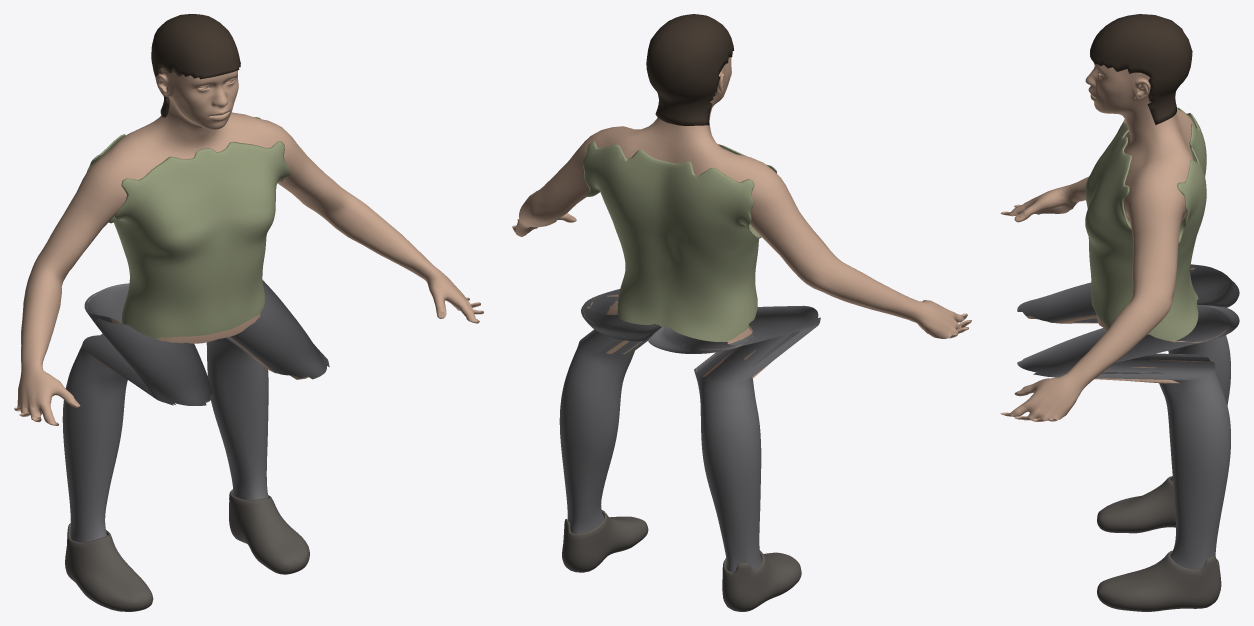
File: 1-charA-crouch.glb
3 views of the same model, side by side, from view 1: azimuth 30°, elevation 25°; view 2: azimuth 150°, elevation 25°; view 3: azimuth 270°, elevation 25° (orthographic). The views are drawn at different scales.
Visible parts, largest first — view 1: pants, Human, shirt, shoes, hair; view 2: pants, shirt, Human, hair, shoes; view 3: pants, Human, shirt, shoes, hair.
Boxes of the visible parts, x1,y1,x2,y2 form: pants: (62, 280, 329, 542); Human: (14, 67, 483, 425); shirt: (86, 117, 290, 338); shoes: (65, 489, 309, 611); hair: (151, 14, 240, 117); pants: (559, 289, 820, 571); shirt: (582, 141, 776, 341); Human: (512, 57, 971, 378); hair: (646, 14, 733, 125); shoes: (562, 510, 801, 611); pants: (1017, 264, 1239, 569); Human: (1000, 63, 1226, 421); shirt: (1085, 107, 1206, 340); shoes: (1097, 476, 1221, 611); hair: (1090, 14, 1192, 124).
Bounding box in the file's own units: 1.05 × 1.22 × 0.4832.
